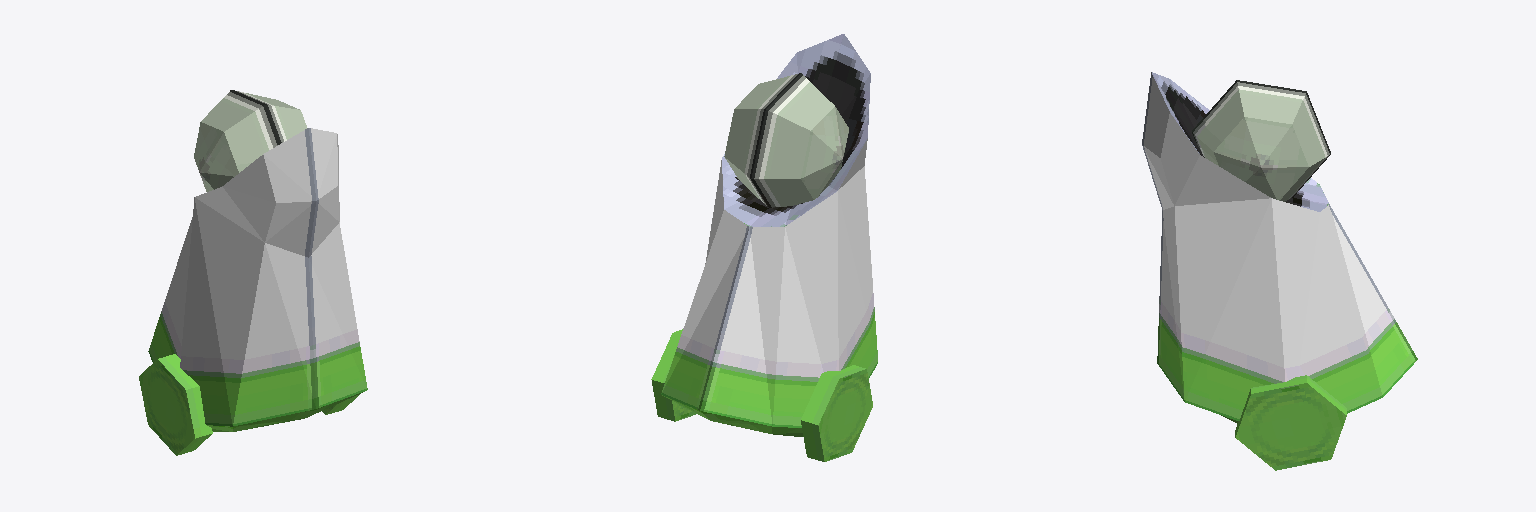
3 renders of one model, left to right at view 1: azimuth 30°, elevation 25°; view 2: azimuth 150°, elevation 25°; view 3: azimuth 270°, elevation 25°, orthographic.
Visible parts, largest first — view 1: buzzlightyLeftCalf_buzzlighty.001; view 2: buzzlightyLeftCalf_buzzlighty.001; view 3: buzzlightyLeftCalf_buzzlighty.001.
Boxes of the visible parts, x1=… form: buzzlightyLeftCalf_buzzlighty.001: x1=139, y1=90, x2=367, y2=455; buzzlightyLeftCalf_buzzlighty.001: x1=651, y1=34, x2=877, y2=461; buzzlightyLeftCalf_buzzlighty.001: x1=1142, y1=72, x2=1417, y2=470.
Bounding box in the file's own units: 0.1133 × 0.2274 × 0.1597.
1 materials, 1 textured.